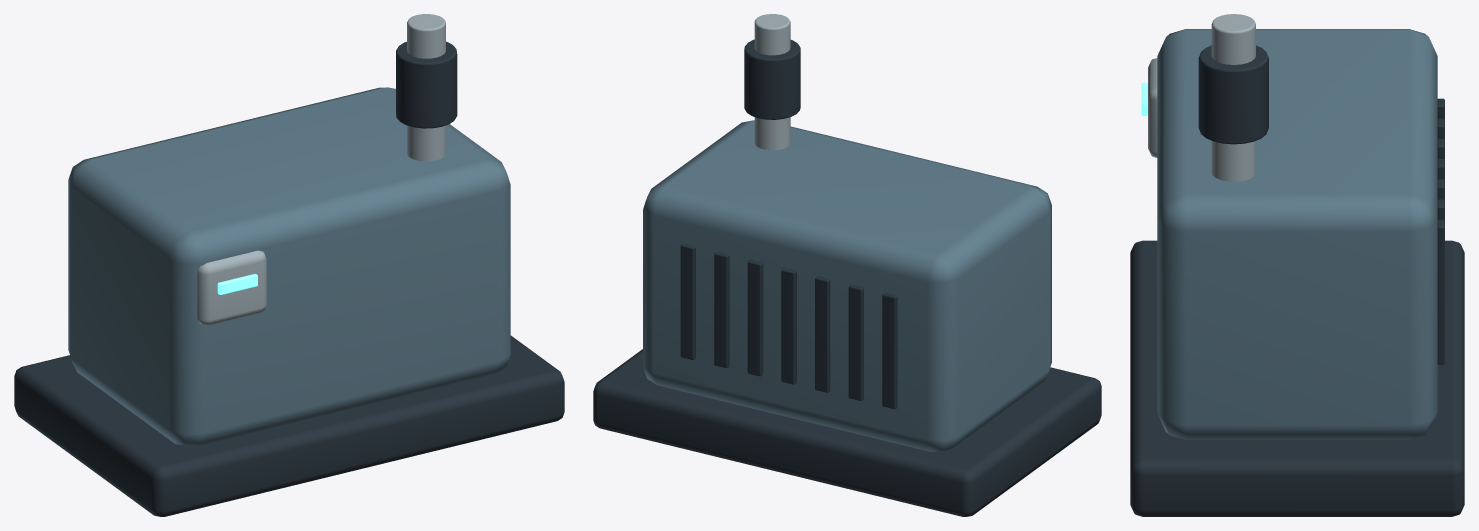
Rendered from 23_generator_aux.glb.
3 views of the same model, side by side, from view 1: azimuth 30°, elevation 25°; view 2: azimuth 150°, elevation 25°; view 3: azimuth 270°, elevation 25° (orthographic). The views are drawn at different scales.
Parts seen in each view (by area): view 1: Generator housing, Skid, Exhaust; view 2: Generator housing, Skid, Exhaust; view 3: Generator housing, Skid, Exhaust.
Boxes of the visible parts, box(x1,y1,x2,y2) form: Generator housing: box(68, 87, 510, 446); Skid: box(14, 41, 564, 516); Exhaust: box(197, 14, 445, 325); Generator housing: box(643, 120, 1051, 451); Skid: box(593, 39, 1101, 516); Exhaust: box(754, 14, 790, 150); Generator housing: box(1157, 29, 1437, 439); Skid: box(1130, 45, 1464, 516); Exhaust: box(1148, 14, 1255, 181).
Size of the model in its own units: 1.7 by 1.55 by 1.05.
